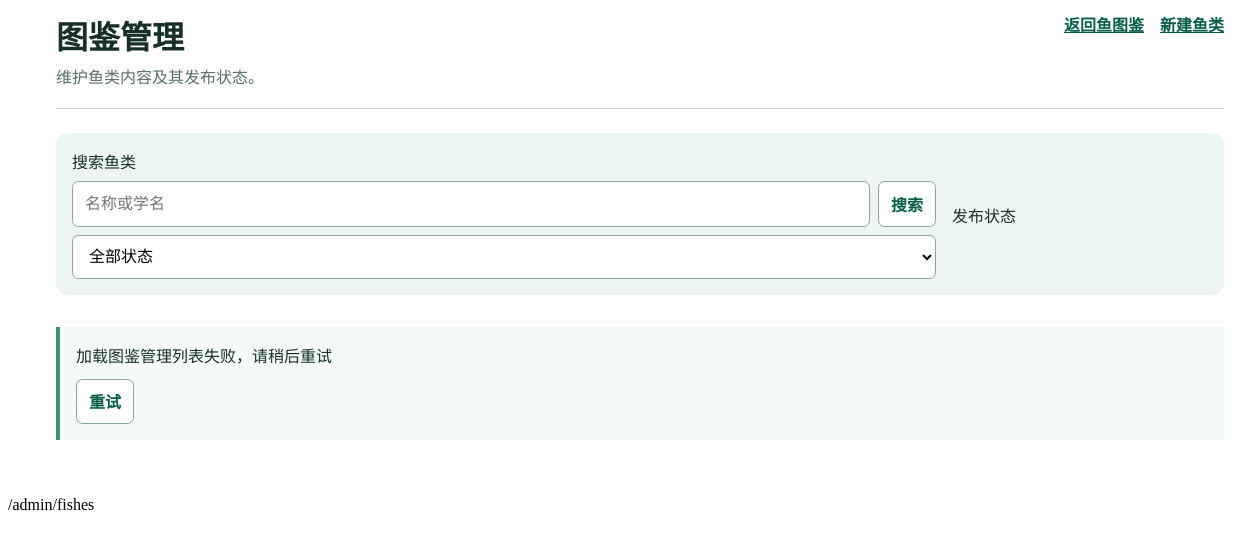
Test: shows a safe retryable error and an empty state
This screenshot has width=1242, height=553.
Expected: the text "加载图鉴管理列表失败，请稍后重试" is shown, top-left (76, 343), bottom-right (332, 367)
Expected: the text "加载图鉴管理列表失败，请稍后重试" does not show "db.internal", top-left (76, 343), bottom-right (332, 367)
Click the button "重试". click: (105, 401)
box: top-left (76, 379), bottom-right (134, 424)
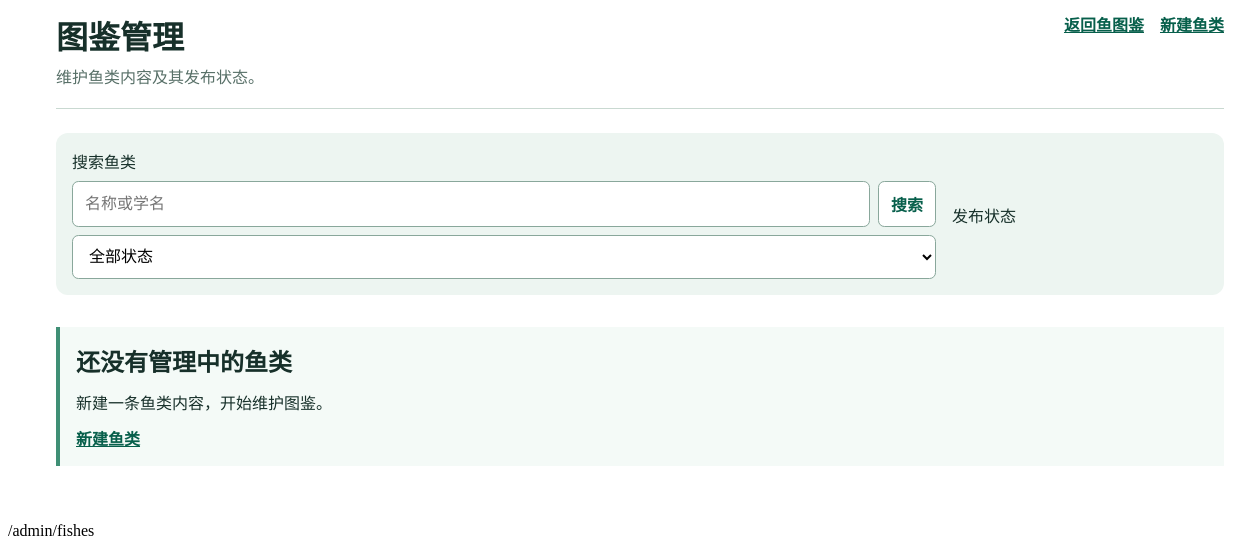
Result: the heading "还没有管理中的鱼类" is shown at top-left (76, 343), bottom-right (292, 378)
